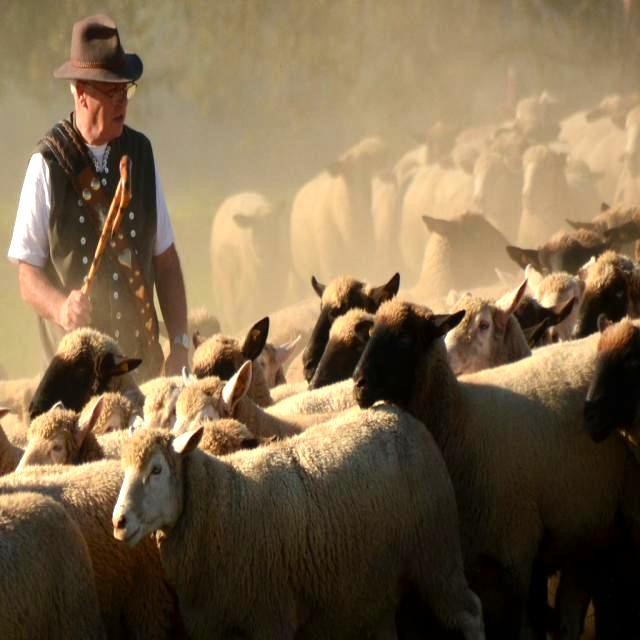sheep: (353, 304, 637, 620), (122, 400, 468, 639)
